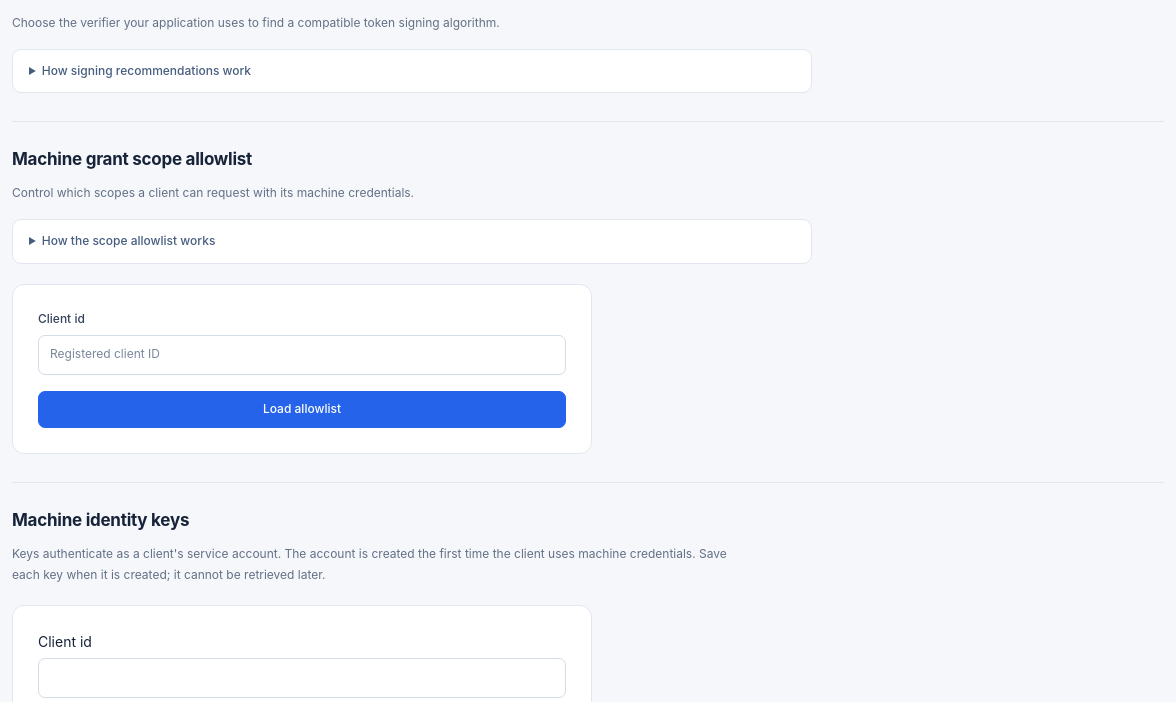
the panel keeps the three server states distinct › renders a null allowlist as unrestricted and a stored list verbatim
(page scrolled)
In the field with id "allowed-scopes-client-id": (302, 355) [38,335,566,375], type "cli_a"
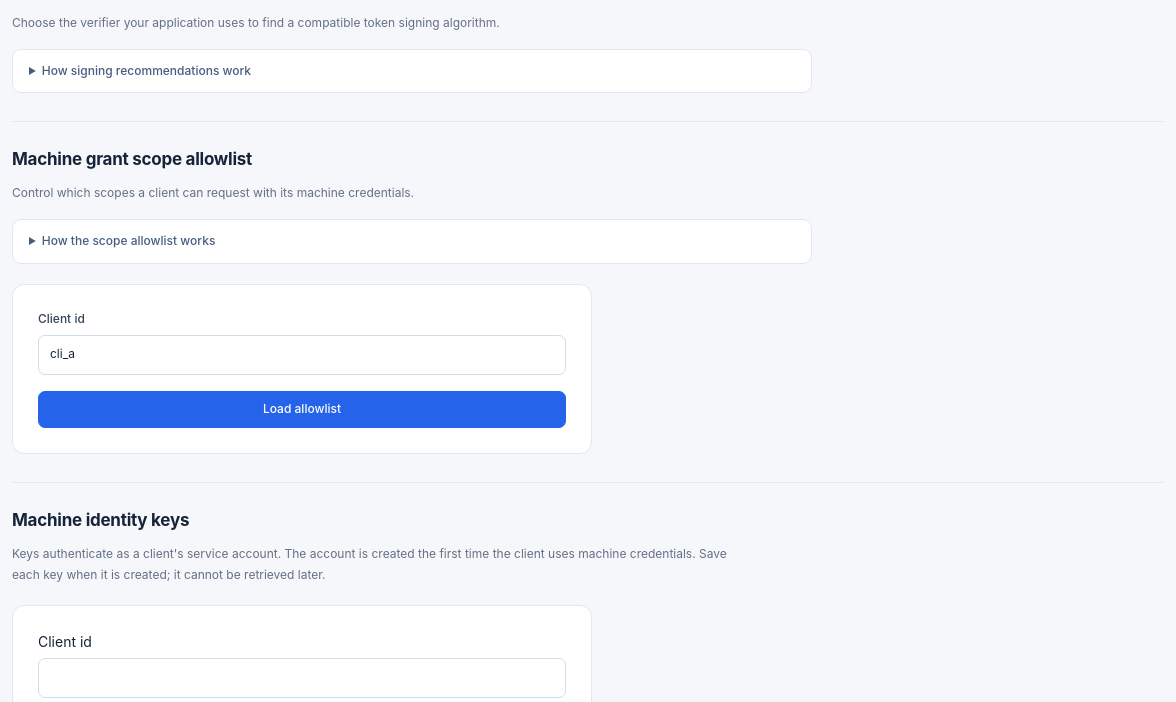
Click the button "Load allowlist": (302, 409) [38,391,566,428]
(page scrolled)
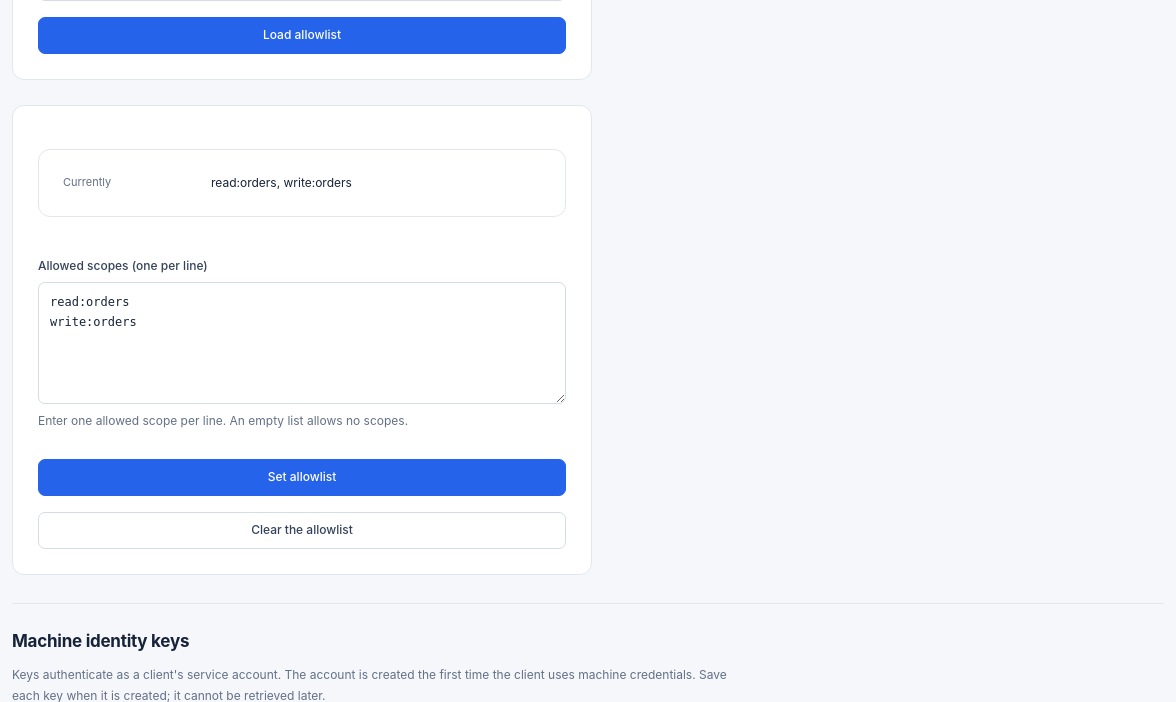
expect the text "read:orders, write:orders" is shown: met, box [211,175,352,190]
expect the text box with id "allowed-scopes-list" holds "read:orders write:orders": met, box [38,282,566,404]
